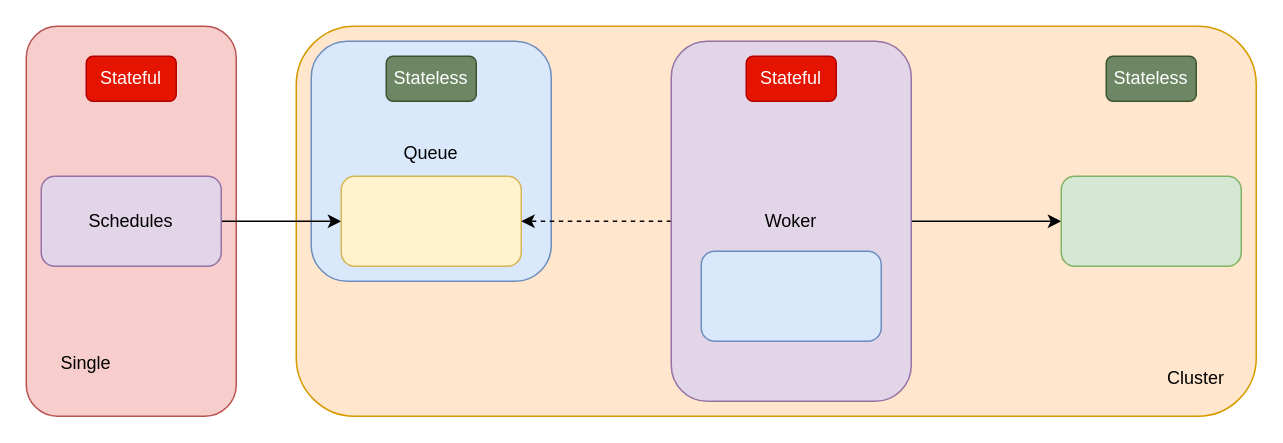
The diagram is 1283 pixels wide and 443 high, and some of its shapes have lost their labels. The box of each missing label's shape, as (x1, y1, x2, y2) in pixels:
Event: (340, 175, 521, 266)
Job: (1060, 175, 1241, 266)
Lua: (700, 250, 881, 341)
